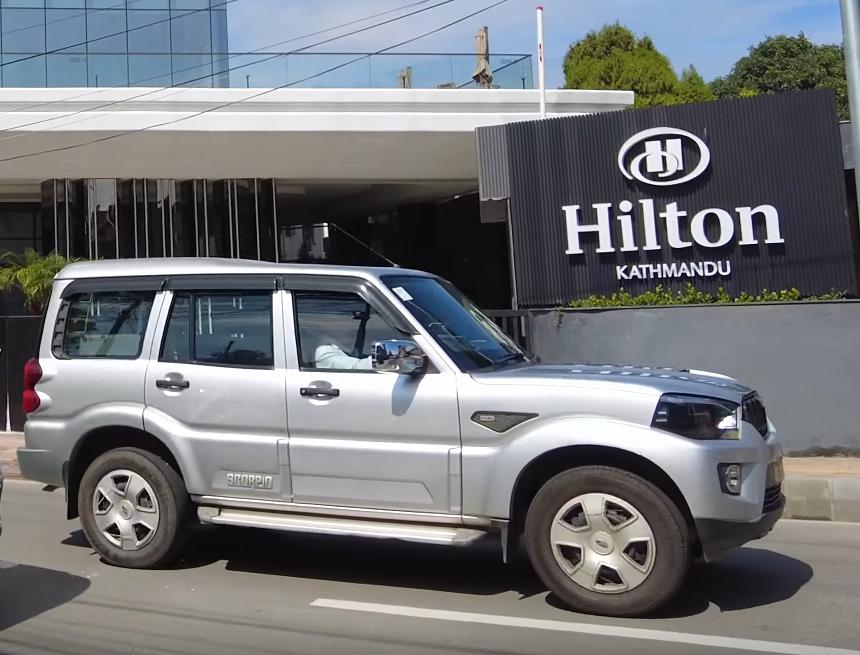SUV: (23, 242, 788, 619)
